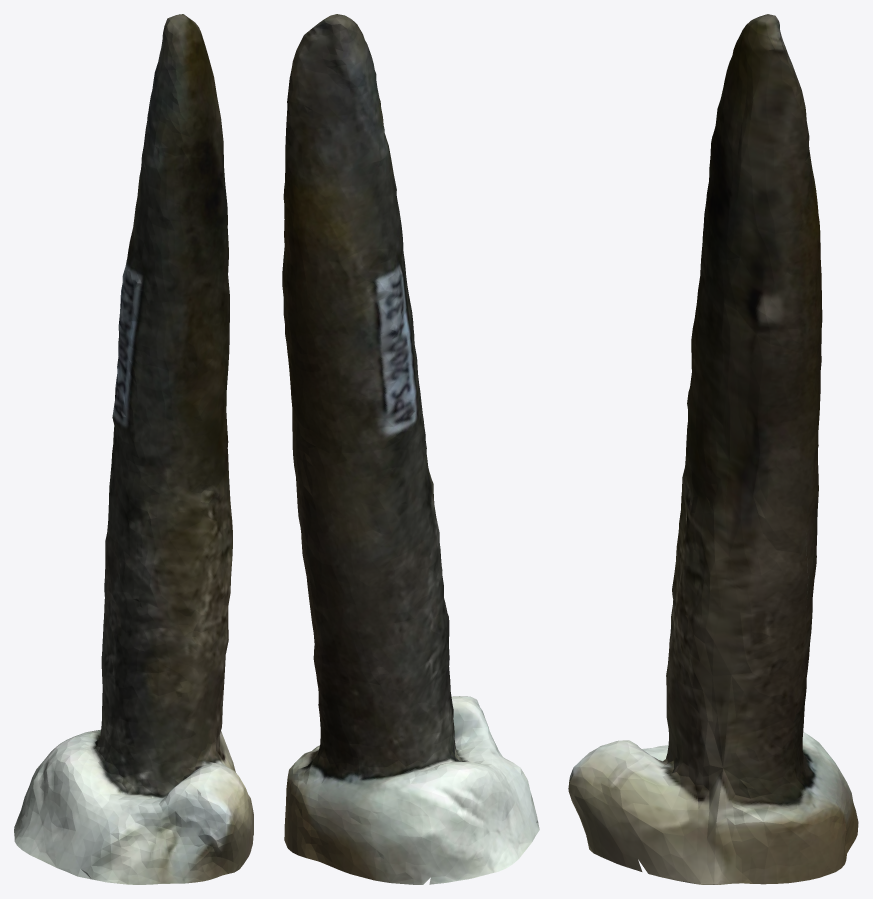
File: APS.2004.32c.glb
3 views of the same model, side by side, from view 1: azimuth 30°, elevation 25°; view 2: azimuth 150°, elevation 25°; view 3: azimuth 270°, elevation 25° (orthographic). The views are drawn at different scales.
Bounding box in the file's own units: 0.0156 × 0.0564 × 0.0175.
1 material, 1 textured.
